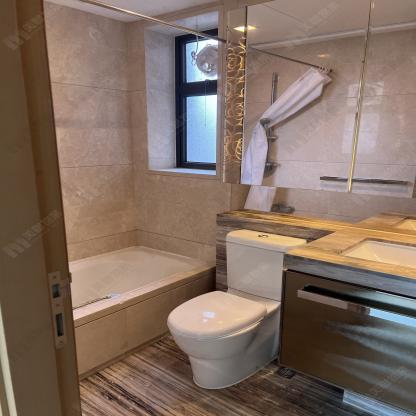Bathtub: (68, 245, 216, 382)
Exhaust Fan: (190, 43, 218, 80)
Toilet: (166, 228, 306, 387)
Toilet Sink: (282, 226, 416, 297)
